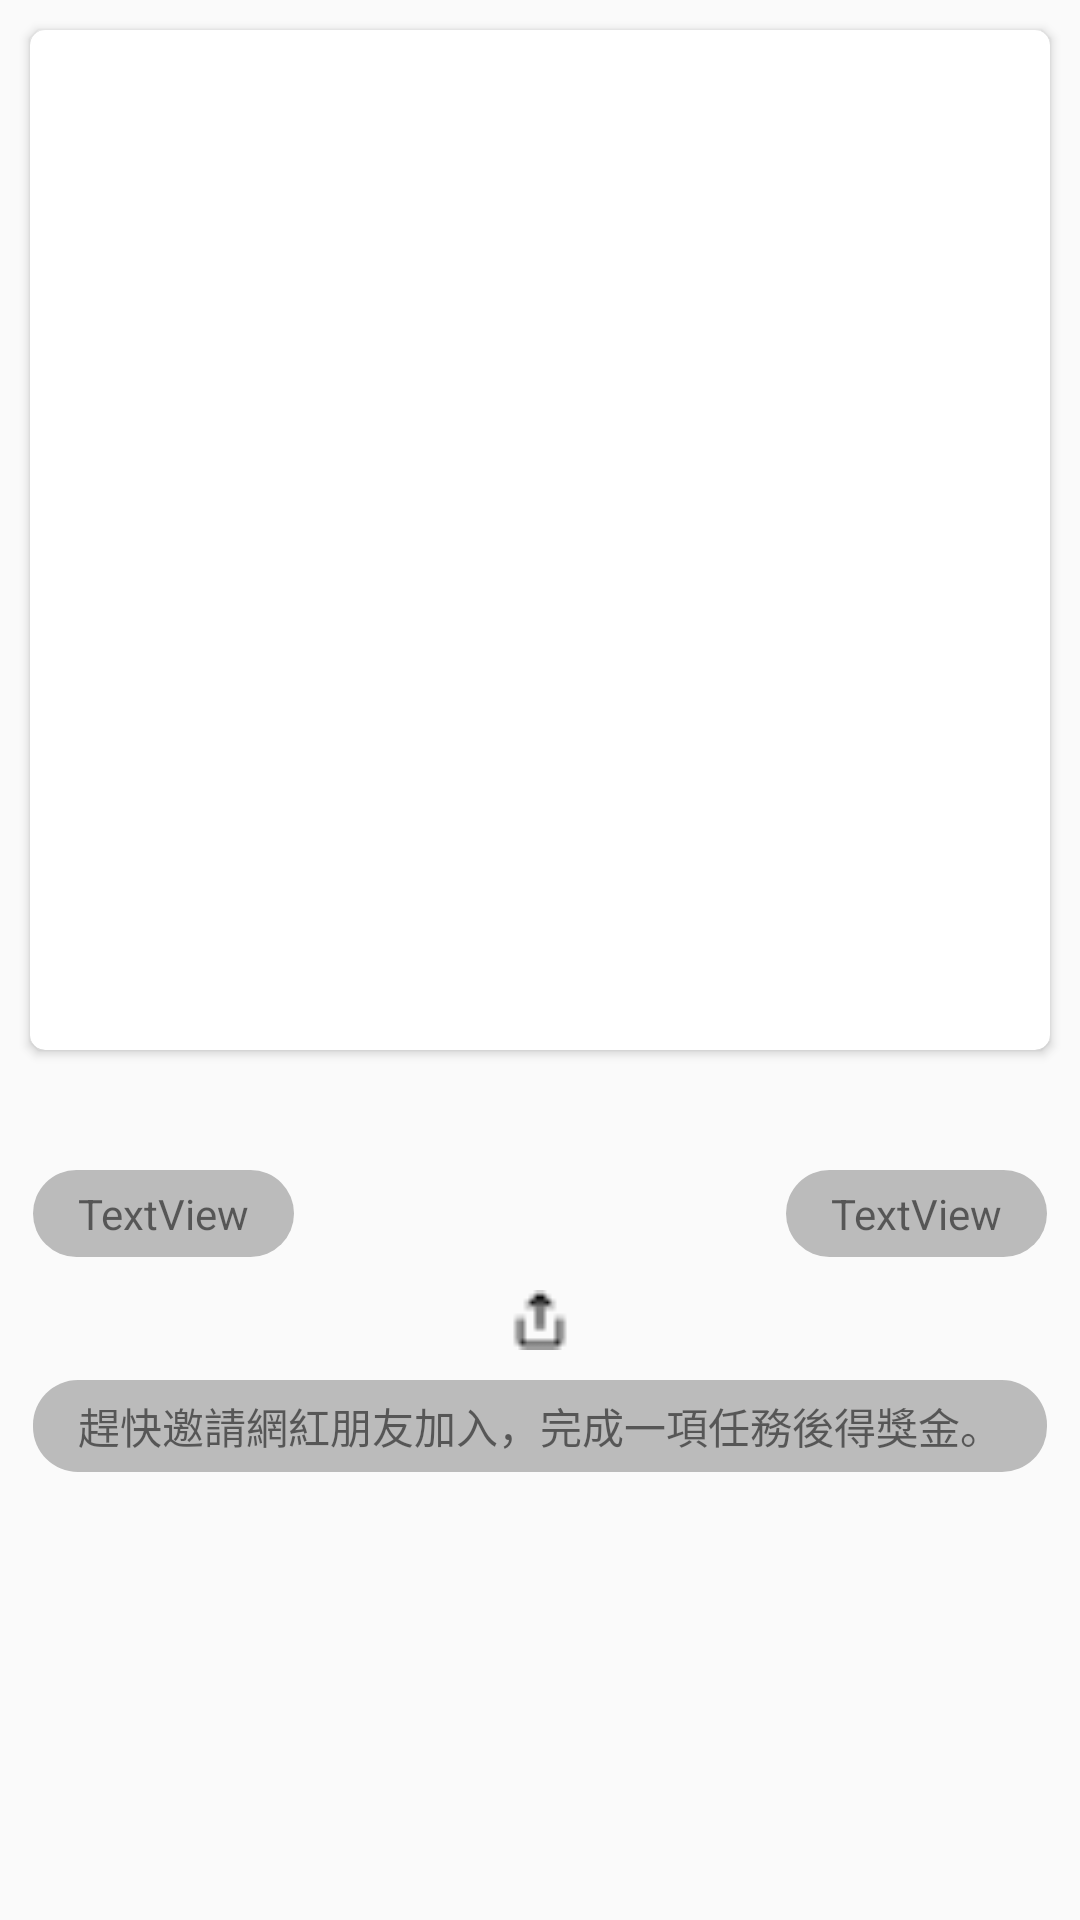

Icon click points for this 1080x1920 phone screenshot, format (x,y):
share: (540,1320)
